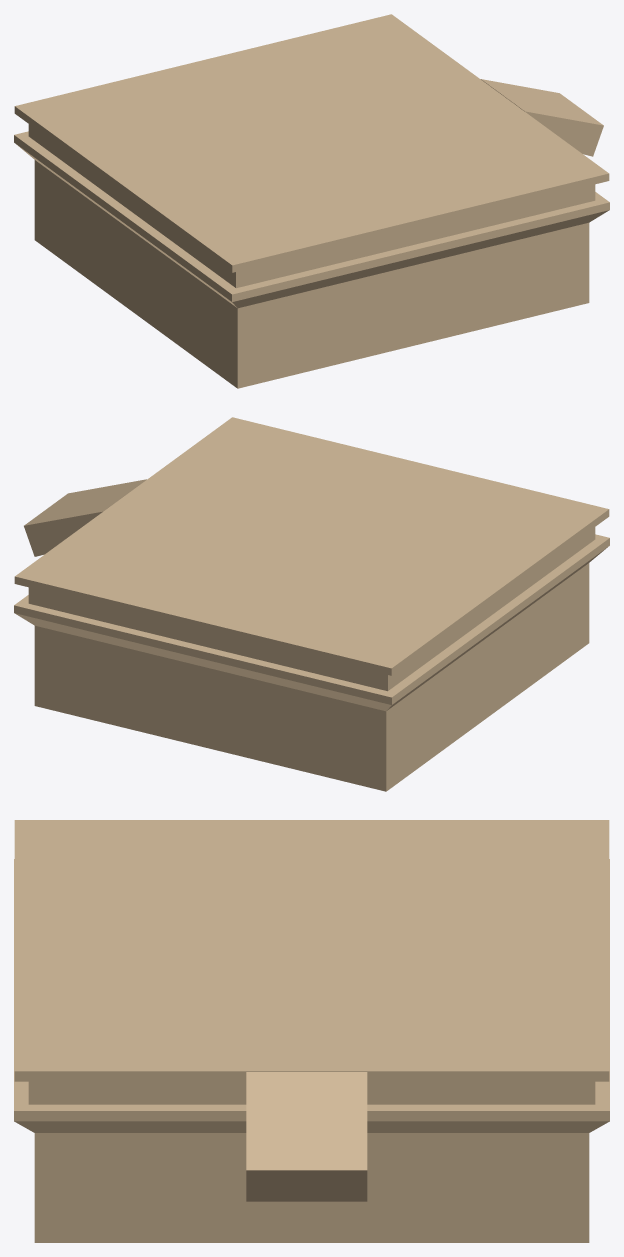
The model's file is egypt_tresplatform.fbx.
The picture shows the model from 3 angles, top to bottom: view 1: azimuth 30°, elevation 25°; view 2: azimuth 150°, elevation 25°; view 3: azimuth 270°, elevation 25°; orthographic projection. The views are drawn at different scales.
Visible parts, largest first — view 1: treasure_platform; view 2: treasure_platform; view 3: treasure_platform.
Part boxes in pixels (x1,y1,x2,y2): treasure_platform: [14, 14, 609, 388]; treasure_platform: [14, 417, 609, 791]; treasure_platform: [14, 820, 609, 1242].
Bounding box in the file's own units: 5.95 × 1.64 × 4.92.
